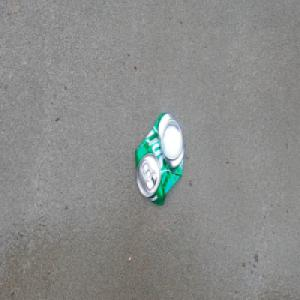SodaCan: (134, 110, 185, 207)
